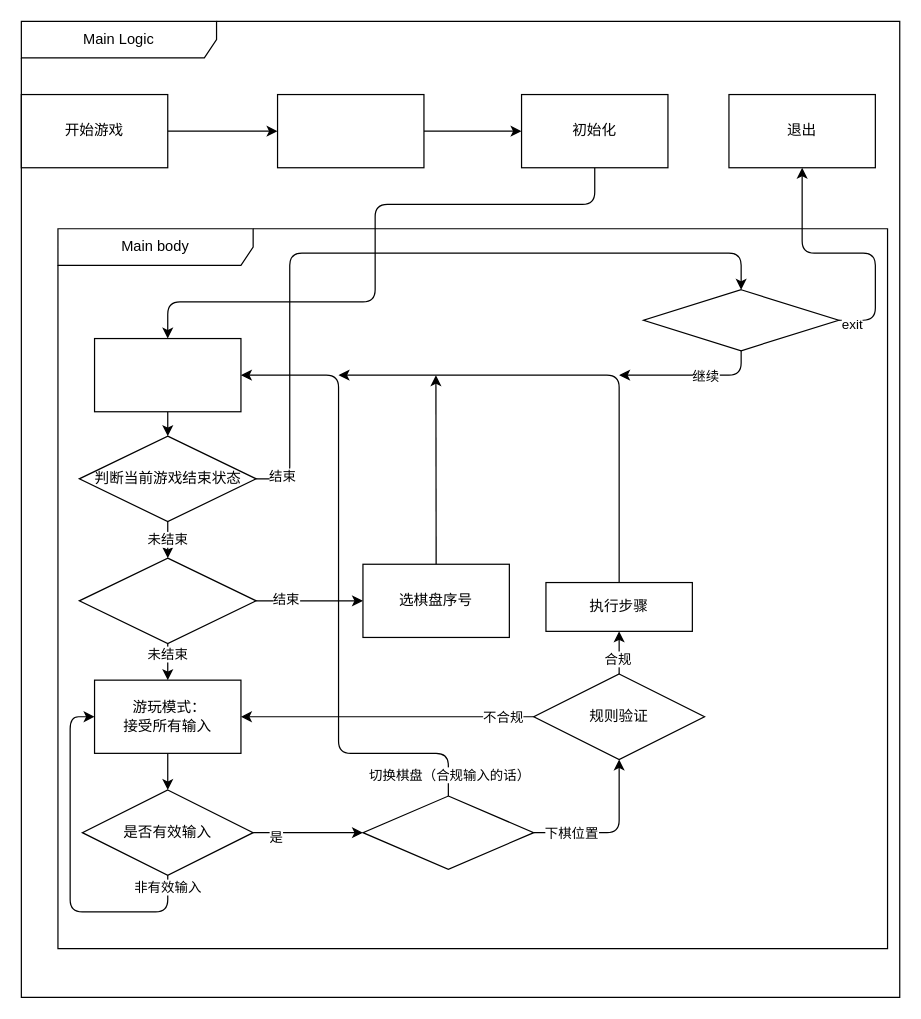
Image size: 921x1019. Some labels were removed from this diagram. Each missing label, with the box of its shape:
判断当前地图结束状态: (78, 557, 256, 644)
收集玩家信息 name color: (276, 93, 424, 168)
根据当前棋盘序号 打印棋盘: (93, 337, 241, 412)
继续复盘 or exit: (642, 289, 839, 351)
输入类型: (362, 795, 534, 869)
